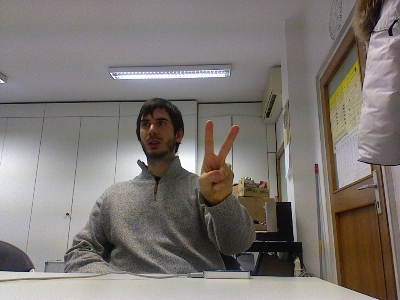剪刀: (197, 119, 239, 204)
